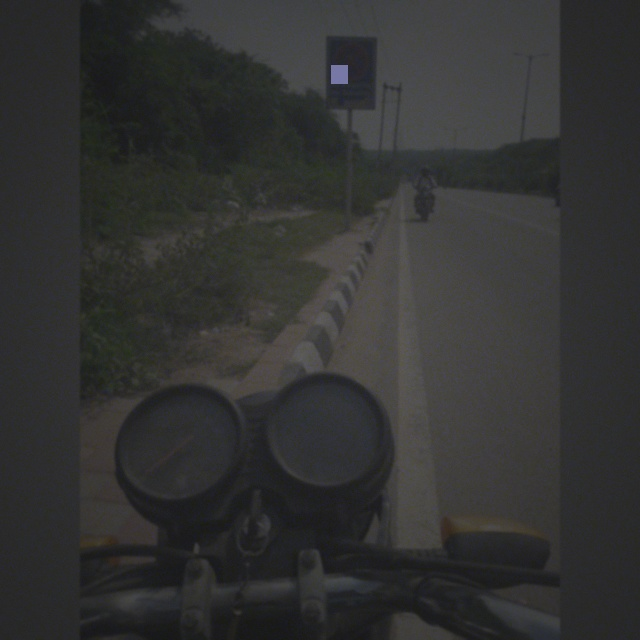No_Stopping_or_Standing: (328, 37, 379, 86)
